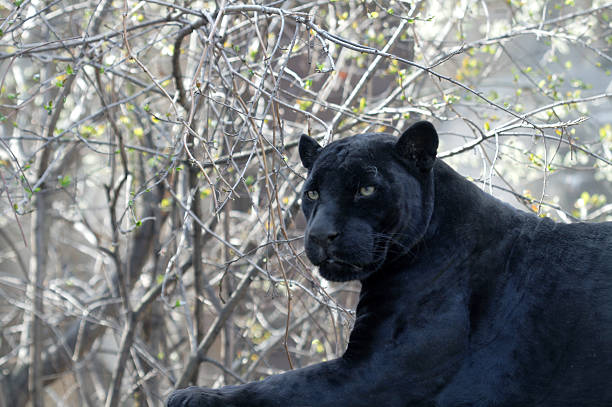panther: (275, 120, 460, 301)
